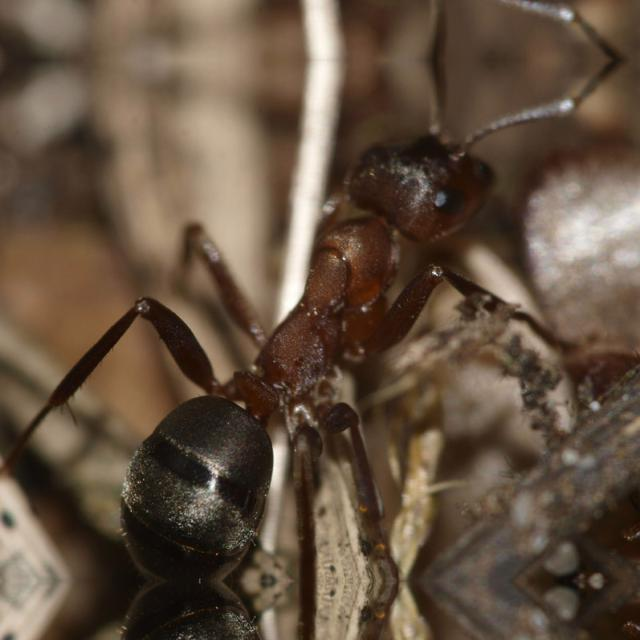Formica: (66, 92, 594, 576)
